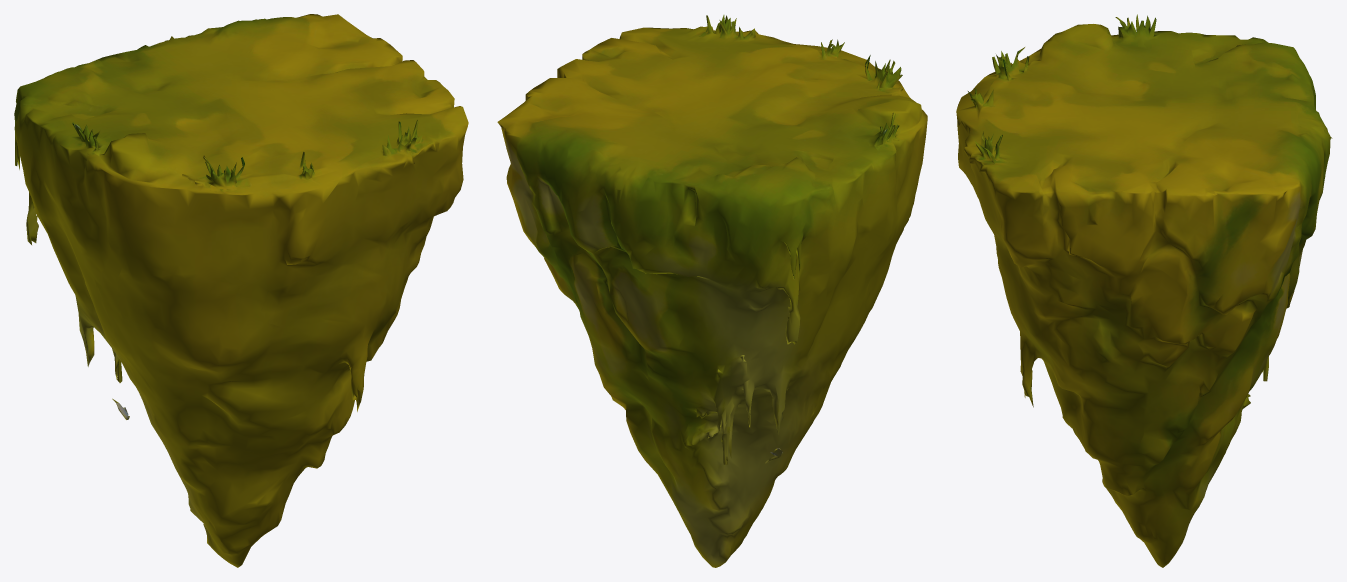
The model's file is floating+island.fbx.
3 renders of one model, left to right at view 1: azimuth 30°, elevation 25°; view 2: azimuth 150°, elevation 25°; view 3: azimuth 270°, elevation 25°, orthographic. The views are drawn at different scales.
Parts seen in each view (by area): view 1: tripo_node_f91eca50; view 2: tripo_node_f91eca50; view 3: tripo_node_f91eca50.
Boxes of the visible parts, bbox=[...] form: tripo_node_f91eca50: bbox=[14, 14, 468, 567]; tripo_node_f91eca50: bbox=[497, 15, 927, 567]; tripo_node_f91eca50: bbox=[956, 14, 1332, 567].
Size of the model in its own units: 0.7457 by 0.9987 by 0.7176.
Materials: 1 (1 with a texture image).
